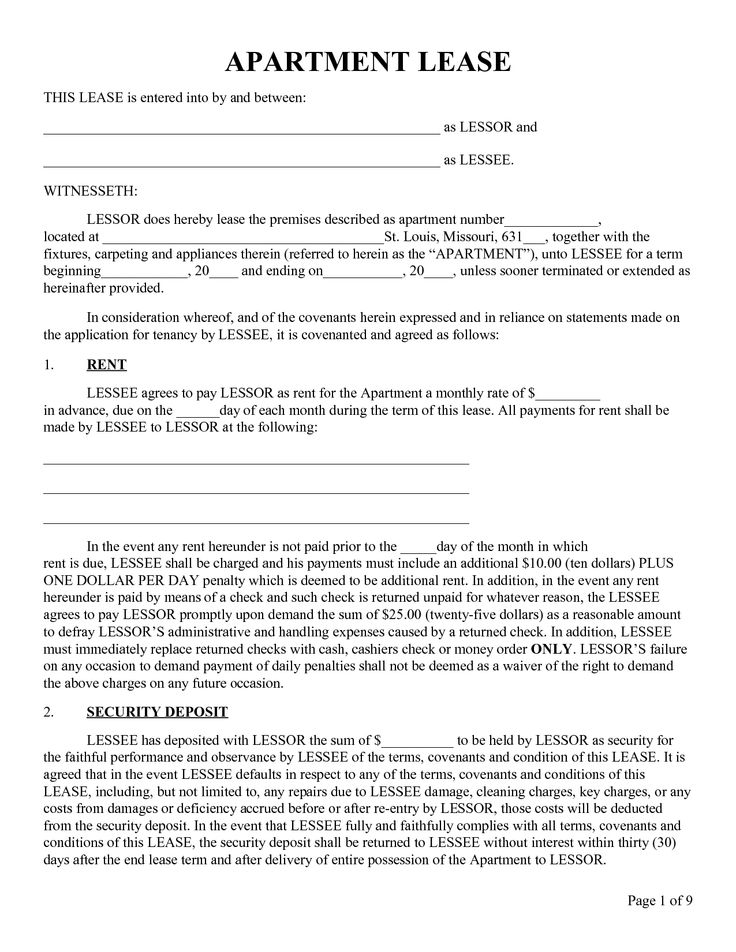textline: (37, 499, 472, 531), (38, 469, 473, 500), (39, 106, 441, 139), (39, 441, 477, 469), (36, 147, 443, 173), (100, 226, 384, 247), (506, 210, 598, 230), (381, 730, 455, 751), (534, 383, 604, 405), (101, 264, 190, 281), (324, 263, 402, 282), (174, 403, 221, 421), (399, 540, 437, 557), (424, 262, 452, 282), (208, 263, 239, 281), (523, 229, 544, 247)
